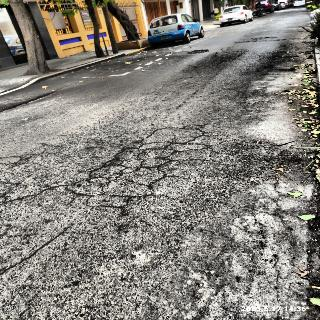alligator-crack: (66, 129, 224, 207), (1, 152, 31, 168)
crack: (0, 223, 79, 280), (0, 184, 67, 208), (267, 166, 287, 228), (214, 52, 218, 58), (220, 47, 223, 51)
